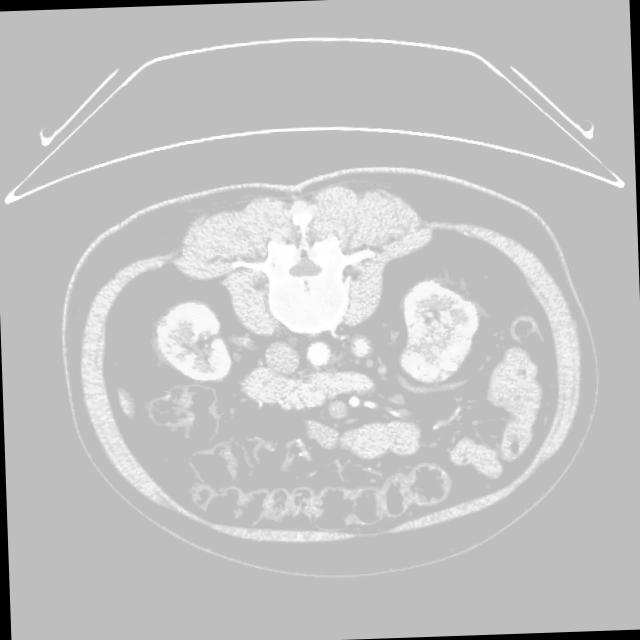TUMOR: (272, 280, 582, 476)
